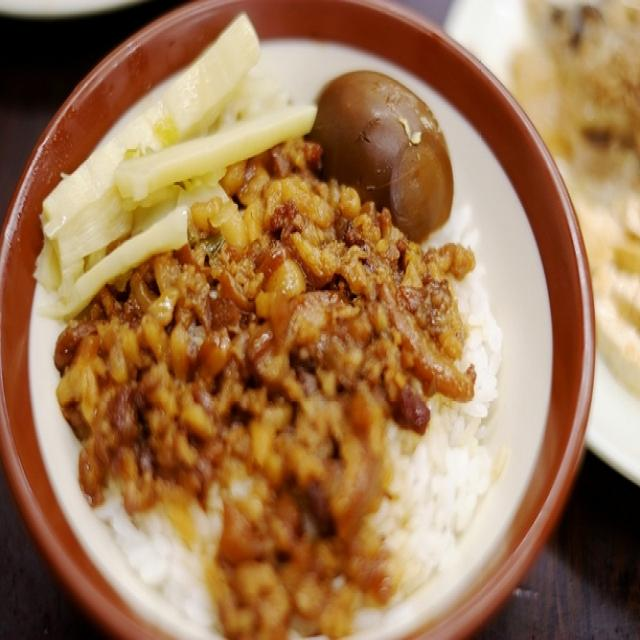猪肉菜式: (12, 12, 606, 634)
